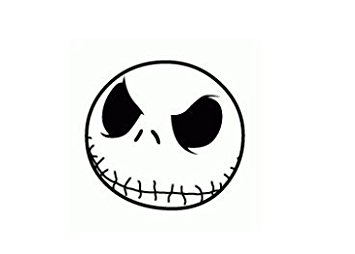Jack Skellington: (85, 60, 246, 212)
